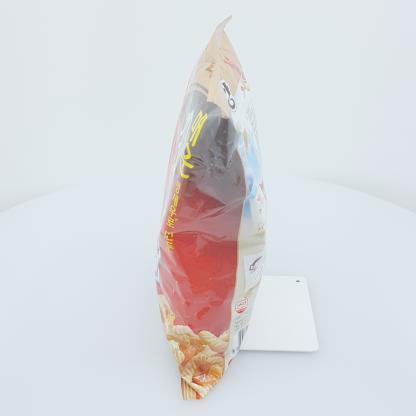Plastic Packaging: (147, 10, 275, 406)
